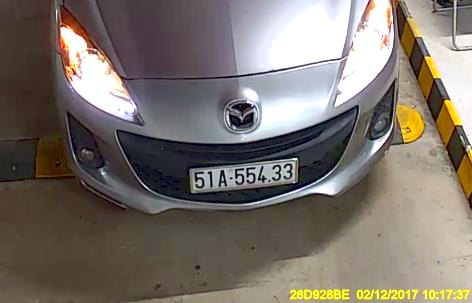plate: (187, 157, 302, 193)
